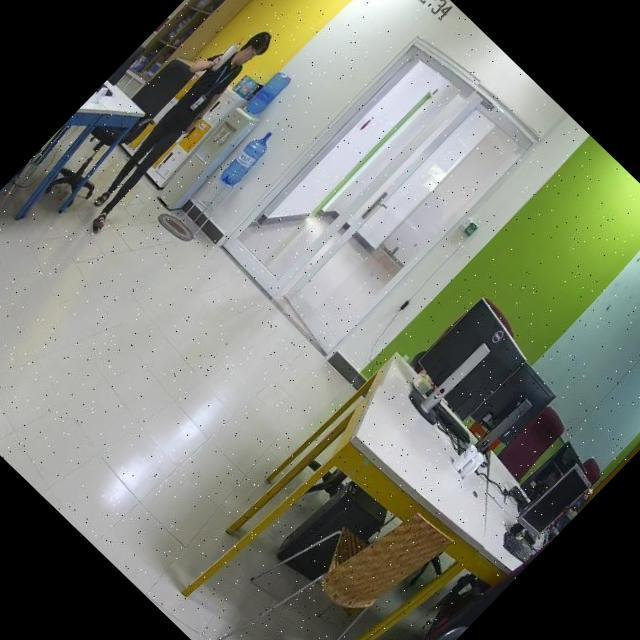person: (65, 18, 280, 240)
